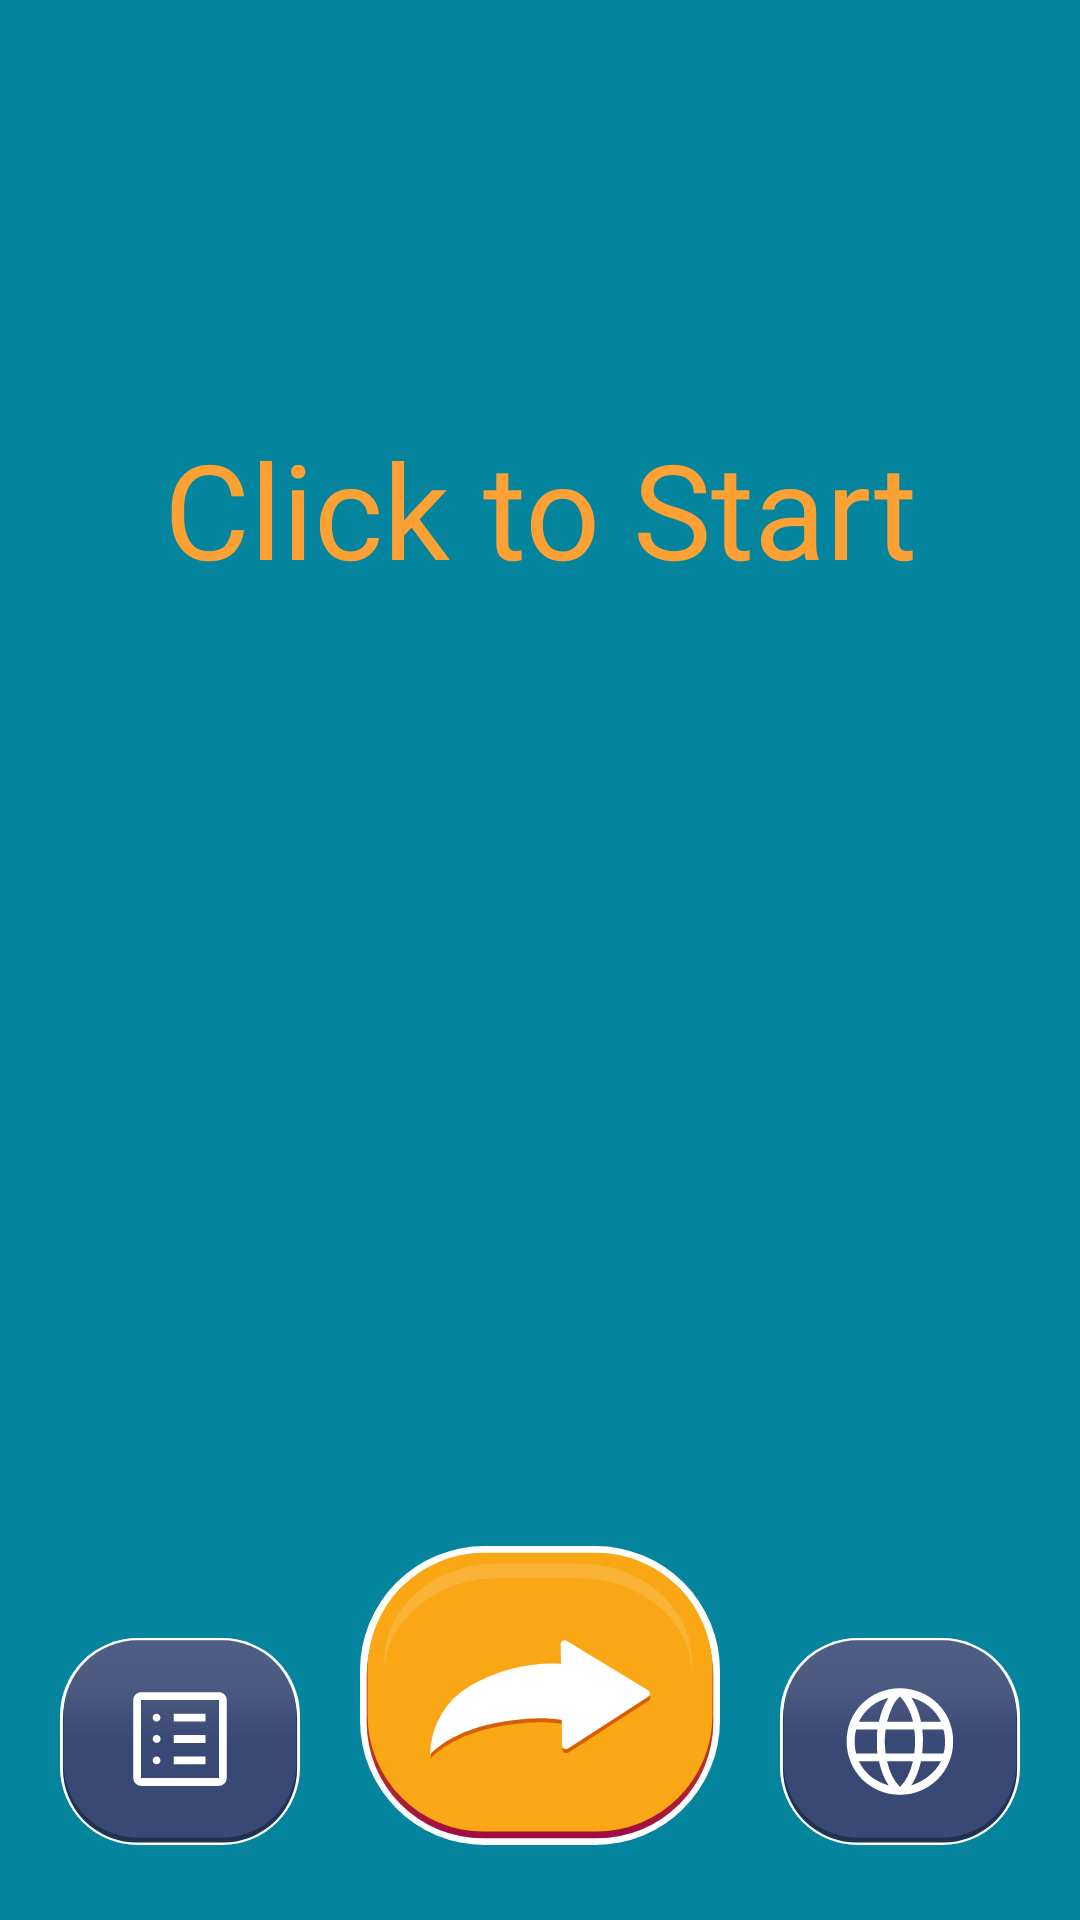

Icon click points for this 1080px x 1920px phone screenshot, format (x,y):
lang: (900,1741)
list: (180,1741)
next: (540,1695)
